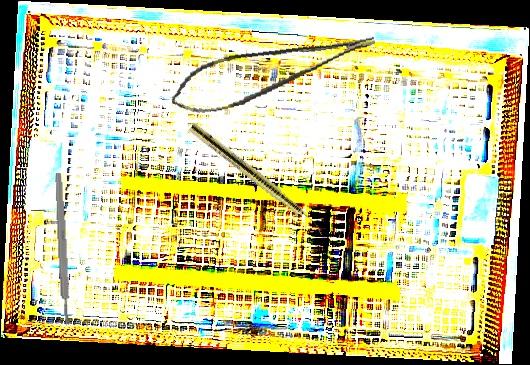Handpiece: (187, 122, 329, 237)
Micro Scissor: (165, 29, 383, 121)
Scalpel Handle: (54, 172, 71, 325)
